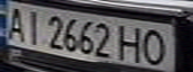2: (90, 20, 118, 60), (42, 12, 66, 51)
6: (75, 18, 96, 56), (60, 16, 81, 53)
A: (0, 3, 30, 42)
H: (115, 22, 148, 63)
I: (21, 7, 45, 45)
O: (139, 27, 175, 66)
